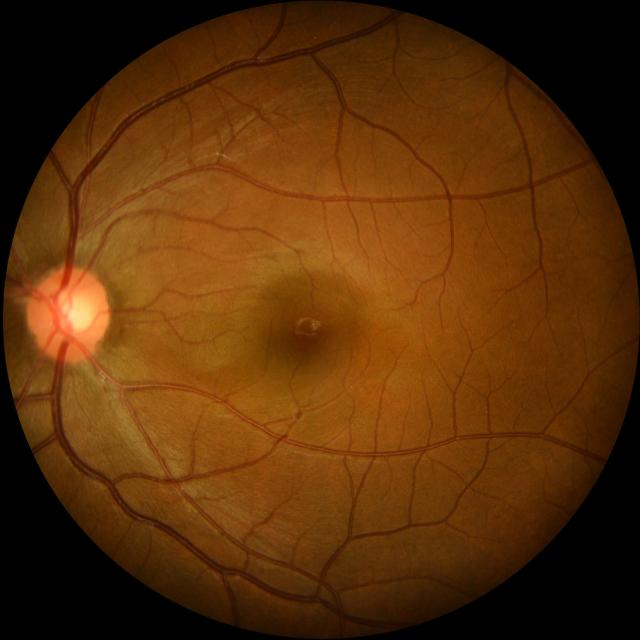OC: (52, 288, 94, 336)
OD: (26, 266, 110, 361)
